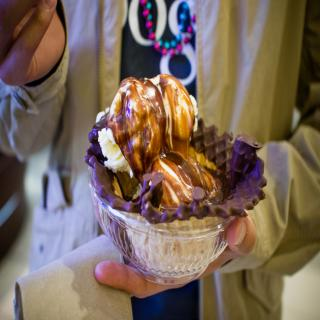Ice cream: (82, 70, 269, 275)
